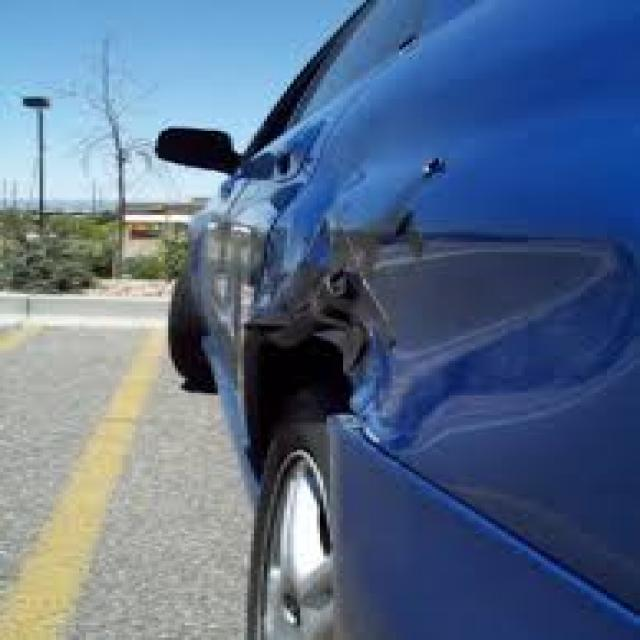minor: (225, 132, 468, 524)
